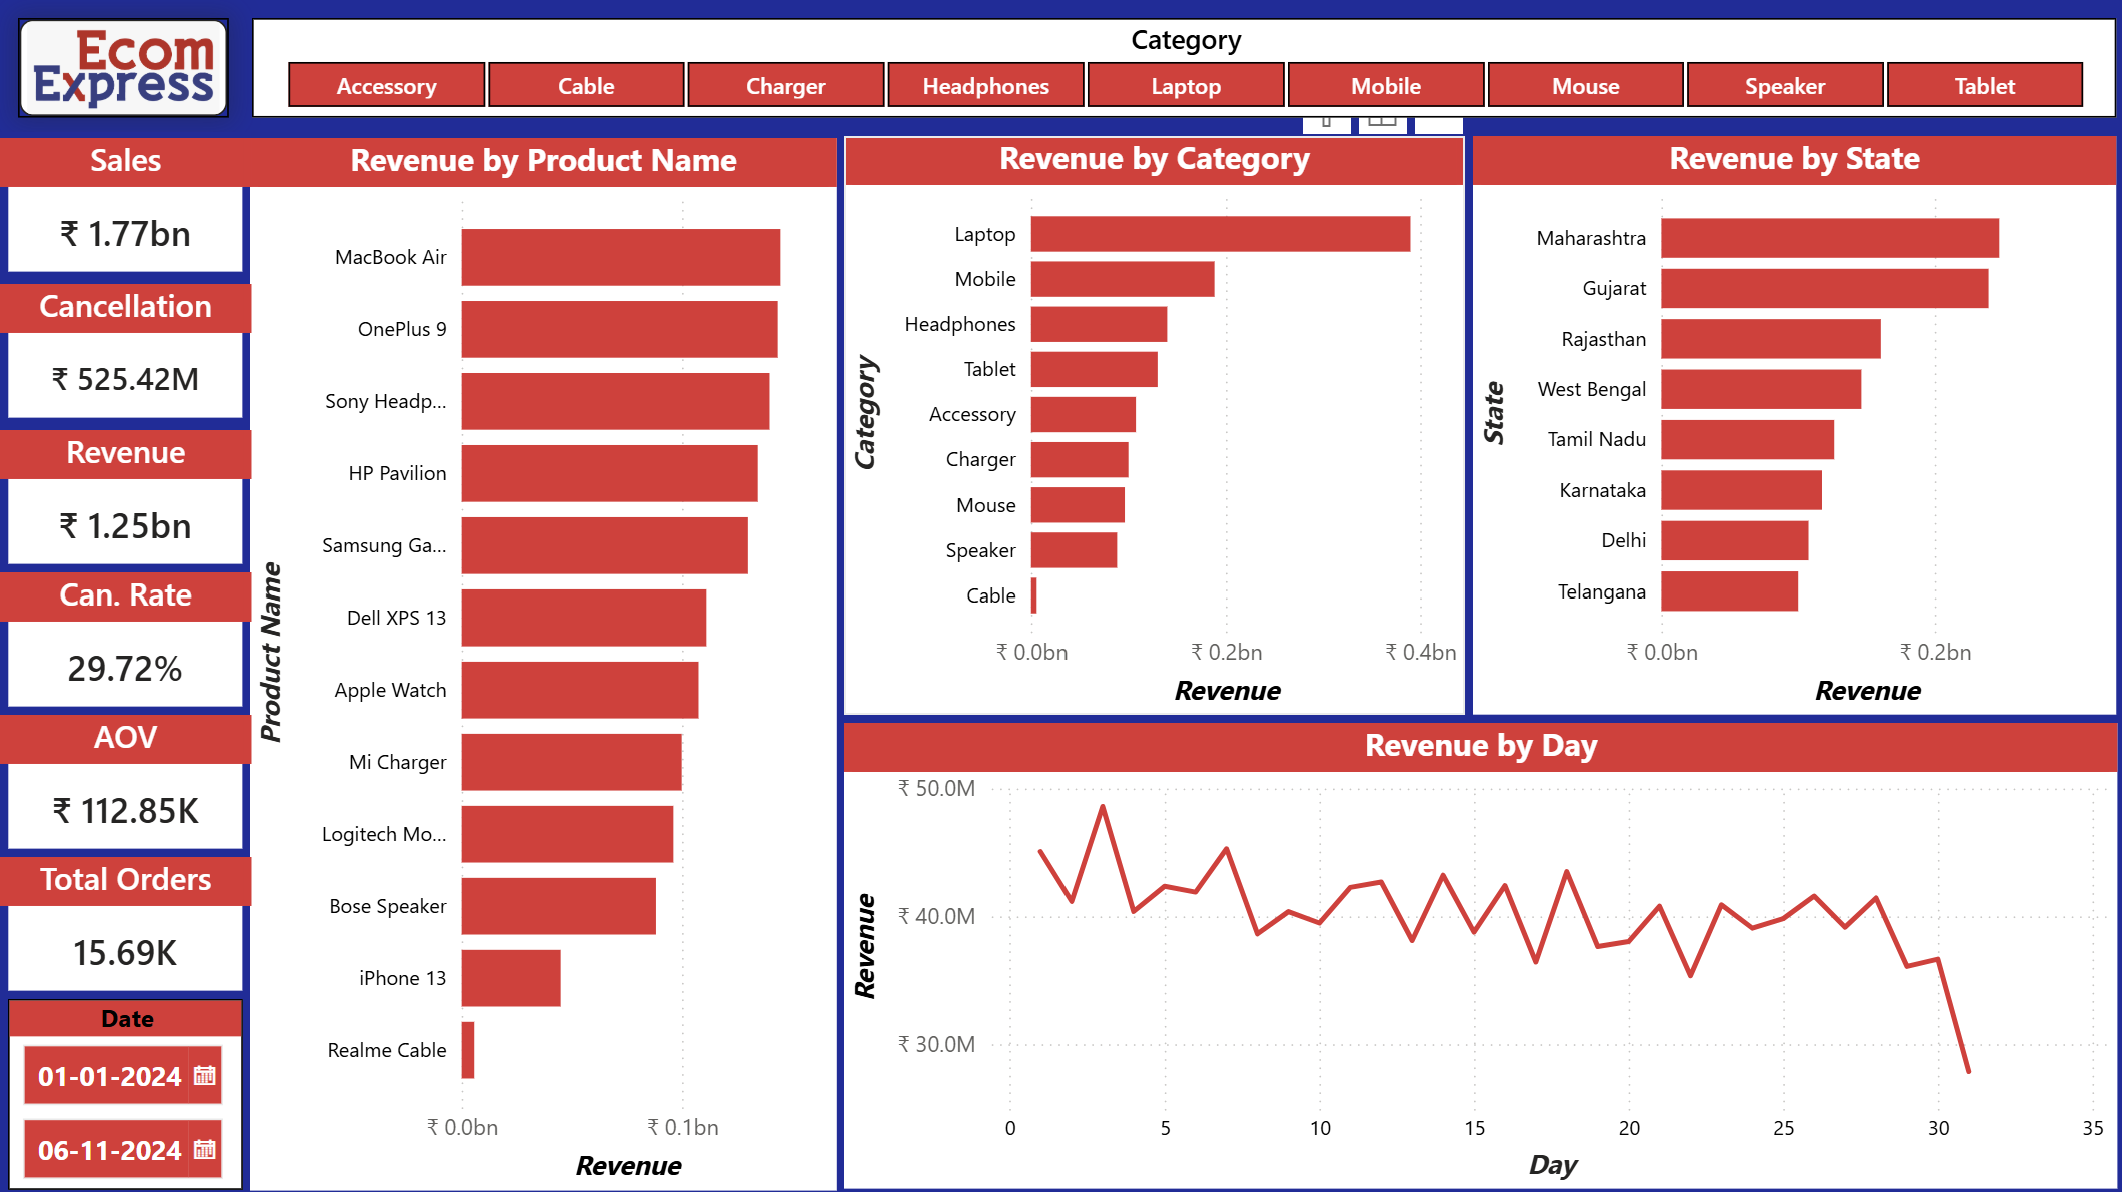

This screenshot's page, from the dashboard's own definition file:
{"tool":"powerbi","page":{"name":"Page 1","canvas":[1280,720],"ordinal":0},"visuals":[{"type":"shape","box":[0,0,1280,82.9],"z":0},{"type":"image","box":[11.4,11.4,127.1,60],"z":1000},{"type":"shape","box":[0,80,151.4,640],"z":2000},{"type":"barChart","title":"Revenue by Product Name","fields":{"Y":["Table.revenue"],"Category":["products.Product Name"]},"box":[150.7,82.6,353.6,633.3],"z":3000},{"type":"barChart","title":"Revenue by Category","fields":{"Y":["Table.revenue"],"Category":["products.Category"]},"box":[509,82.5,373.5,348],"z":4000},{"type":"lineChart","title":"Revenue by Day","fields":{"Y":["Table.revenue"],"Category":["orders.Date and time of purchase.Variation.Date Hierarchy.Year","orders.Date and time of purchase.Variation.Date Hierarchy.Quarter","orders.Date and time of purchase.Variation.Date Hierarchy.Month","orders.Date and time of purchase.Variation.Date Hierarchy.Day"]},"box":[509,435.5,766.5,280.5],"z":5000},{"type":"barChart","title":"Revenue by State","fields":{"Category":["customers.State"],"Y":["Table.revenue"]},"box":[887,82.5,387.5,348],"z":6000},{"type":"slicer","title":"Category","fields":{"Values":["products.Category"]},"box":[151.3,11.3,1122.7,60],"z":7000},{"type":"cardVisual","title":"Sales","fields":{"Data":["Table.Sales"]},"box":[0,82.9,151.4,85.7],"z":8000},{"type":"cardVisual","title":"Cancellation","fields":{"Data":["Table.lost_rev_cancellation"]},"box":[0,171.4,151.4,85.7],"z":9000},{"type":"cardVisual","title":"Revenue","fields":{"Data":["Table.revenue"]},"box":[0,258.6,151.4,85.7],"z":10000},{"type":"cardVisual","title":"Can. Rate","fields":{"Data":["Table.cancellation_rate"]},"box":[0,344.3,151.4,85.7],"z":11000},{"type":"cardVisual","title":"AOV","fields":{"Data":["Table.AOV"]},"box":[0,430,151.4,85.7],"z":12000},{"type":"cardVisual","title":"Total Orders","fields":{"Data":["CountNonNull(orders.OrderID)"]},"box":[0,515.7,151.4,85.7],"z":13000},{"type":"slicer","title":"Date","fields":{"Values":["orders.Date and time of purchase"]},"box":[4.3,601.6,141.6,114.8],"z":14000}]}

Visuals, with their boxes in screenshot pixels (x1, y1, x2, y2), scaled from the page's 1280x720 canvas onto the 2122x1192 screenshot:
shape: <region>0, 0, 2121, 137</region>
image: <region>19, 19, 230, 118</region>
shape: <region>0, 132, 251, 1191</region>
"Revenue by Product Name" barChart: <region>250, 137, 836, 1185</region>
"Revenue by Category" barChart: <region>844, 137, 1463, 713</region>
"Revenue by Day" lineChart: <region>844, 721, 2115, 1185</region>
"Revenue by State" barChart: <region>1470, 137, 2113, 713</region>
"Category" slicer: <region>251, 19, 2112, 118</region>
"Sales" cardVisual: <region>0, 137, 251, 279</region>
"Cancellation" cardVisual: <region>0, 284, 251, 426</region>
"Revenue" cardVisual: <region>0, 428, 251, 570</region>
"Can. Rate" cardVisual: <region>0, 570, 251, 712</region>
"AOV" cardVisual: <region>0, 712, 251, 854</region>
"Total Orders" cardVisual: <region>0, 854, 251, 996</region>
"Date" slicer: <region>7, 996, 242, 1186</region>
